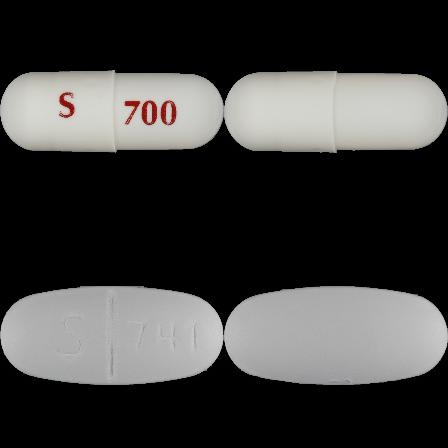67253-700: (0, 0, 224, 224)
